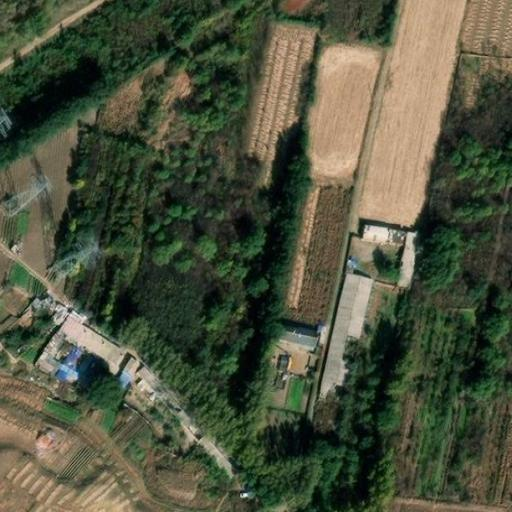building: (319, 274, 373, 394), (57, 311, 130, 374), (362, 226, 421, 289), (36, 333, 87, 384), (269, 322, 318, 350), (115, 352, 143, 383)
